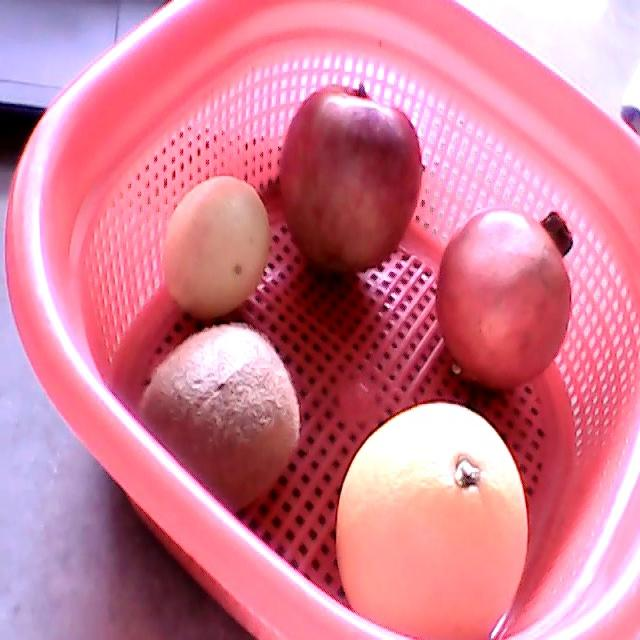apple: (279, 85, 424, 275)
kiwi: (139, 323, 300, 516)
lemon: (164, 175, 271, 319)
orange: (335, 403, 528, 639)
pomegranate: (436, 210, 574, 390)
